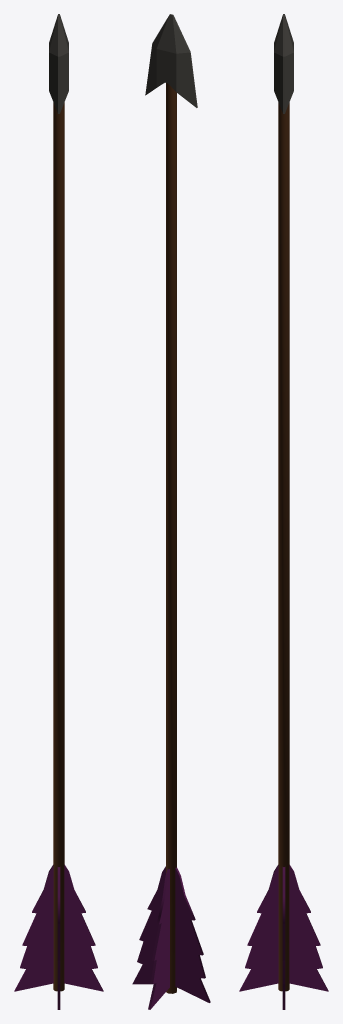
File: arrow.fbx
3 renders of one model, left to right at view 1: azimuth 90°, elevation 25°; view 2: azimuth 150°, elevation 25°; view 3: azimuth 270°, elevation 25°, orthographic.
Visible parts, largest first — view 1: Arrow; view 2: Arrow; view 3: Arrow.
Part boxes in pixels (x1,y1,x2,y2): Arrow: [14, 14, 103, 1009]; Arrow: [132, 14, 210, 1009]; Arrow: [239, 14, 328, 1009].
Size of the model in its own units: 6.05 by 6.05 by 73.13.
